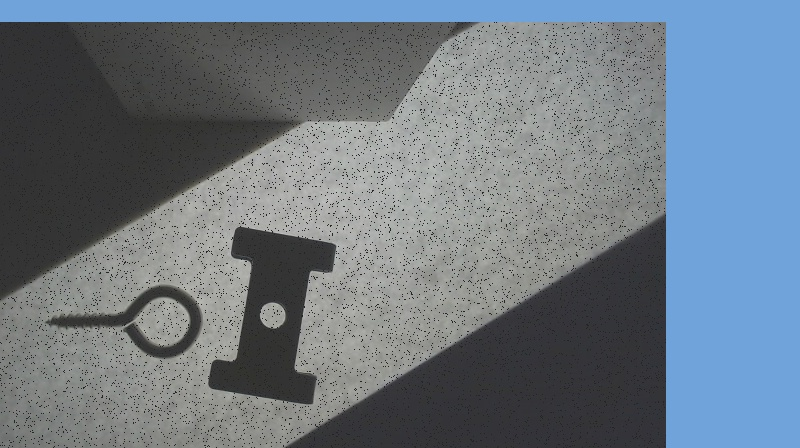O001: (45, 280, 203, 362)
O002: (204, 225, 339, 403)
